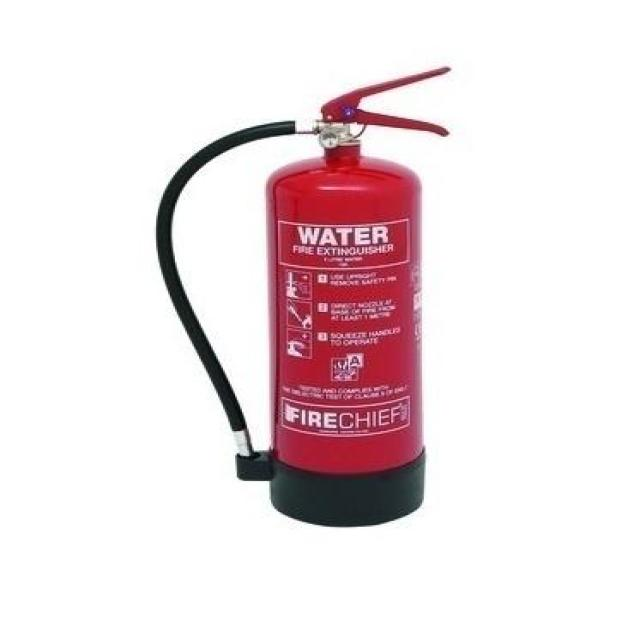fire_extinguisher: (145, 61, 456, 532)
